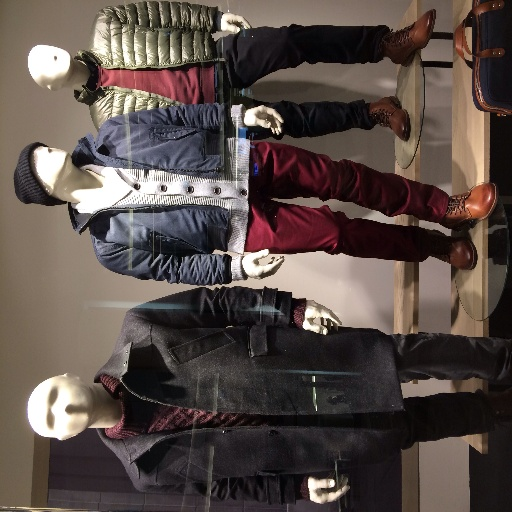hand: (301, 298, 342, 336), (305, 473, 351, 505), (243, 103, 284, 136), (241, 248, 284, 279), (219, 12, 252, 34)
